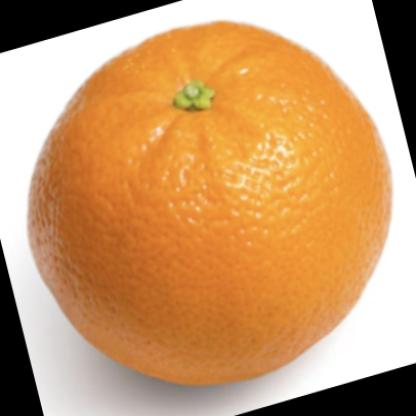fresh: (31, 22, 392, 382)
